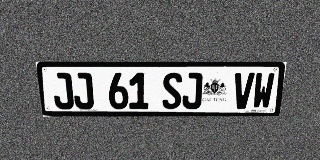1: (128, 73, 148, 109)
6: (108, 73, 129, 109)
J: (51, 73, 74, 109), (72, 73, 94, 109), (182, 73, 203, 109)
S: (162, 73, 182, 109)
V: (232, 73, 255, 109)
W: (252, 73, 275, 109)
